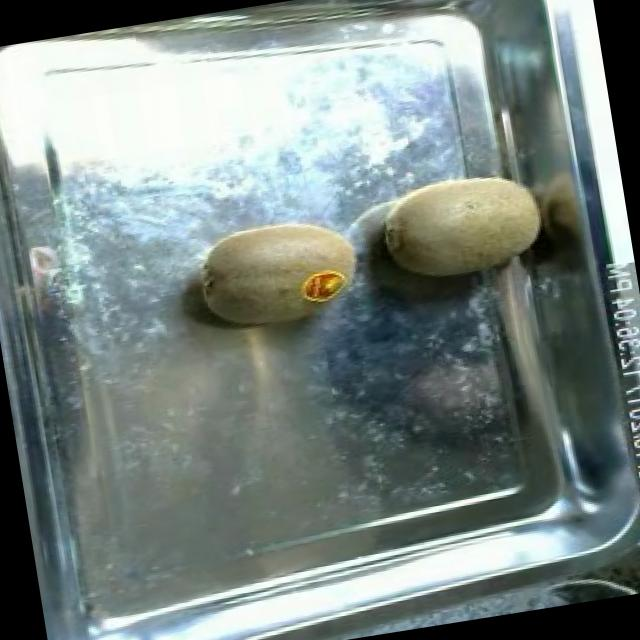Fruit: (184, 202, 373, 352), (364, 155, 560, 298)
